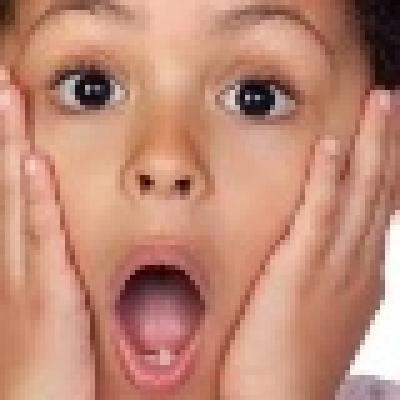surprise: (25, 8, 359, 400)
